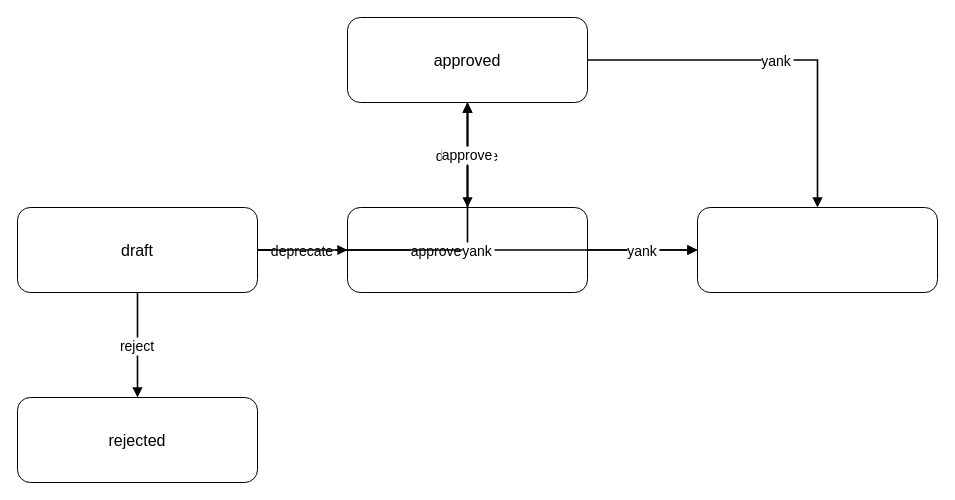
Some shapes in this 955 by 500 pixel diagram are drawn without their labels. The box of each missing label's shape, as (x1, y1, x2, y2) in pixels:
deprecated: (346, 206, 588, 292)
yanked: (696, 206, 938, 292)
